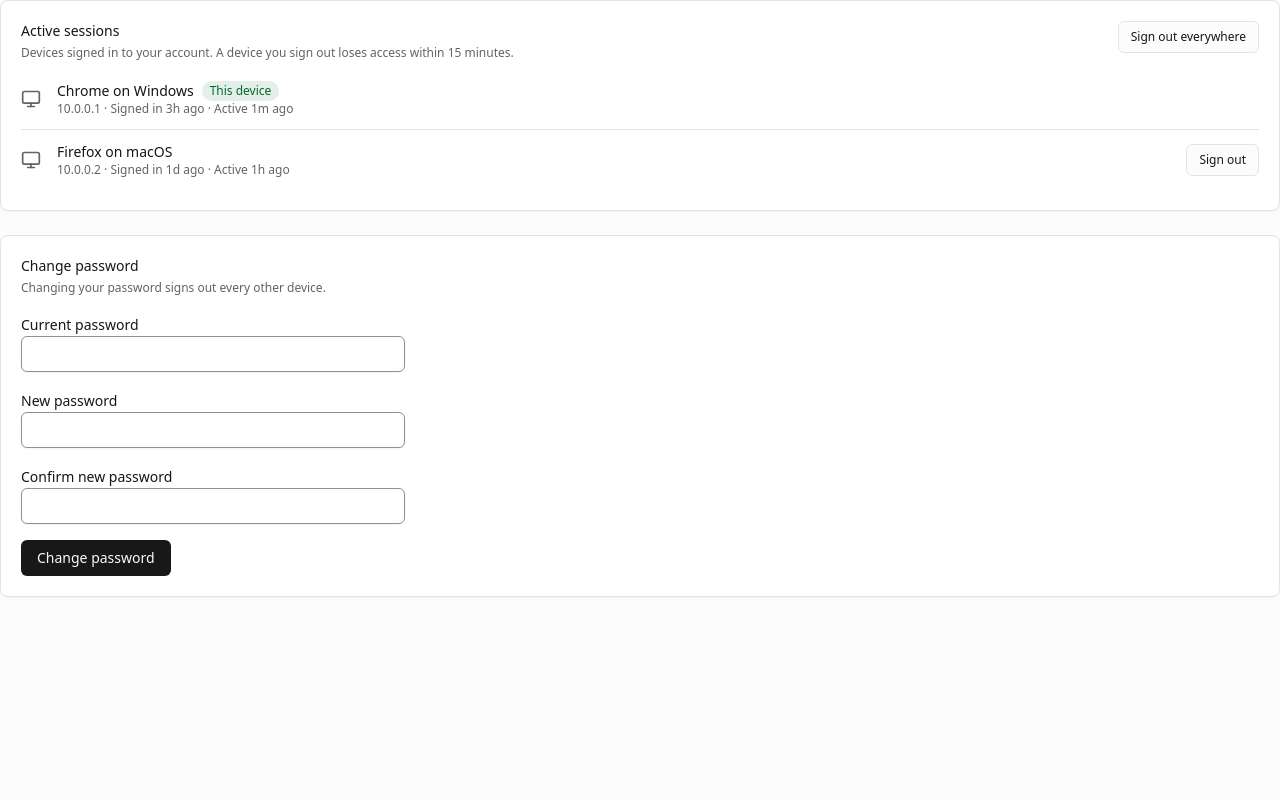
Test: changing the password › rejects reusing the current password
Type "correct-horse-battery" into the password field labelled "Current password". click: x=213, y=354
box: [21,336,405,372]
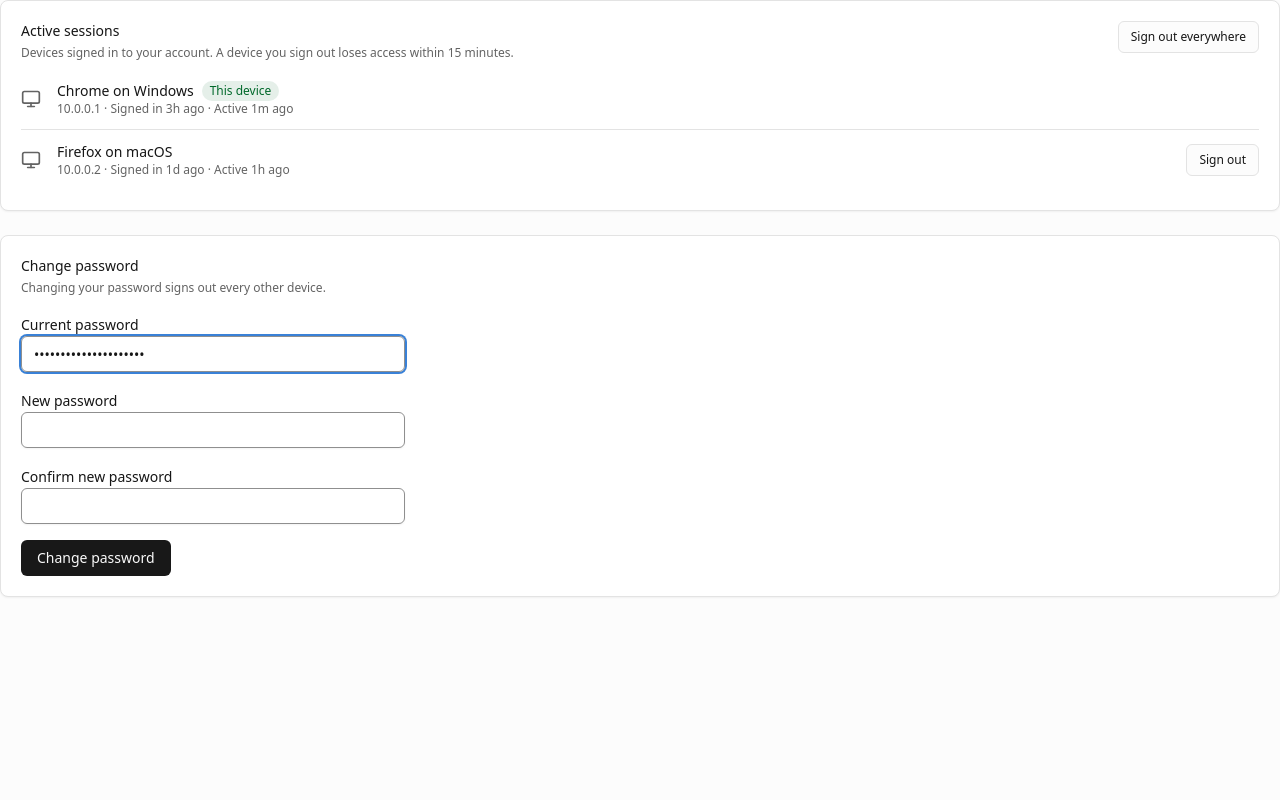
Type "correct-horse-battery" into the password field labelled "New password". click: x=213, y=430
box: [21,412,405,448]
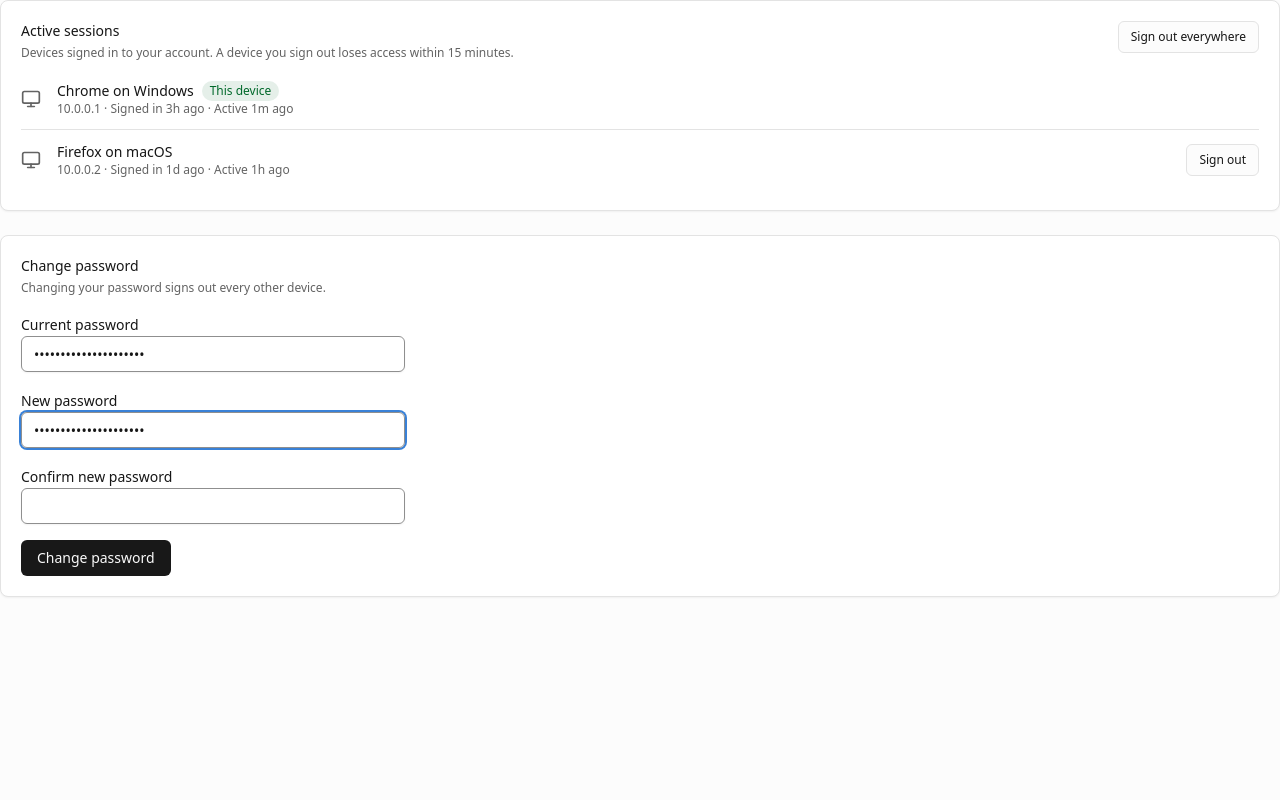
Type "correct-horse-battery" into the password field labelled "Confirm new password". click: x=213, y=506
box: [21,488,405,524]
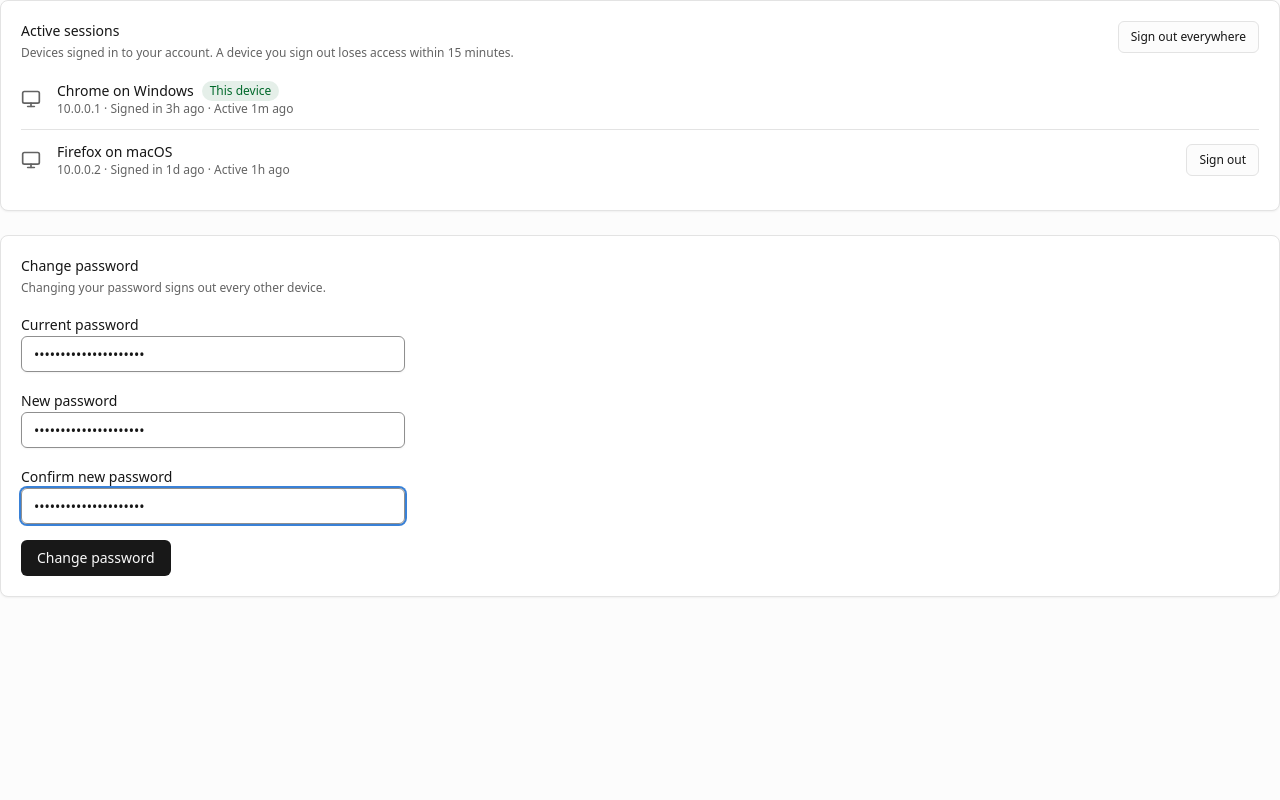
Click the button "Change password". click: x=96, y=558
box: [21,540,171,576]
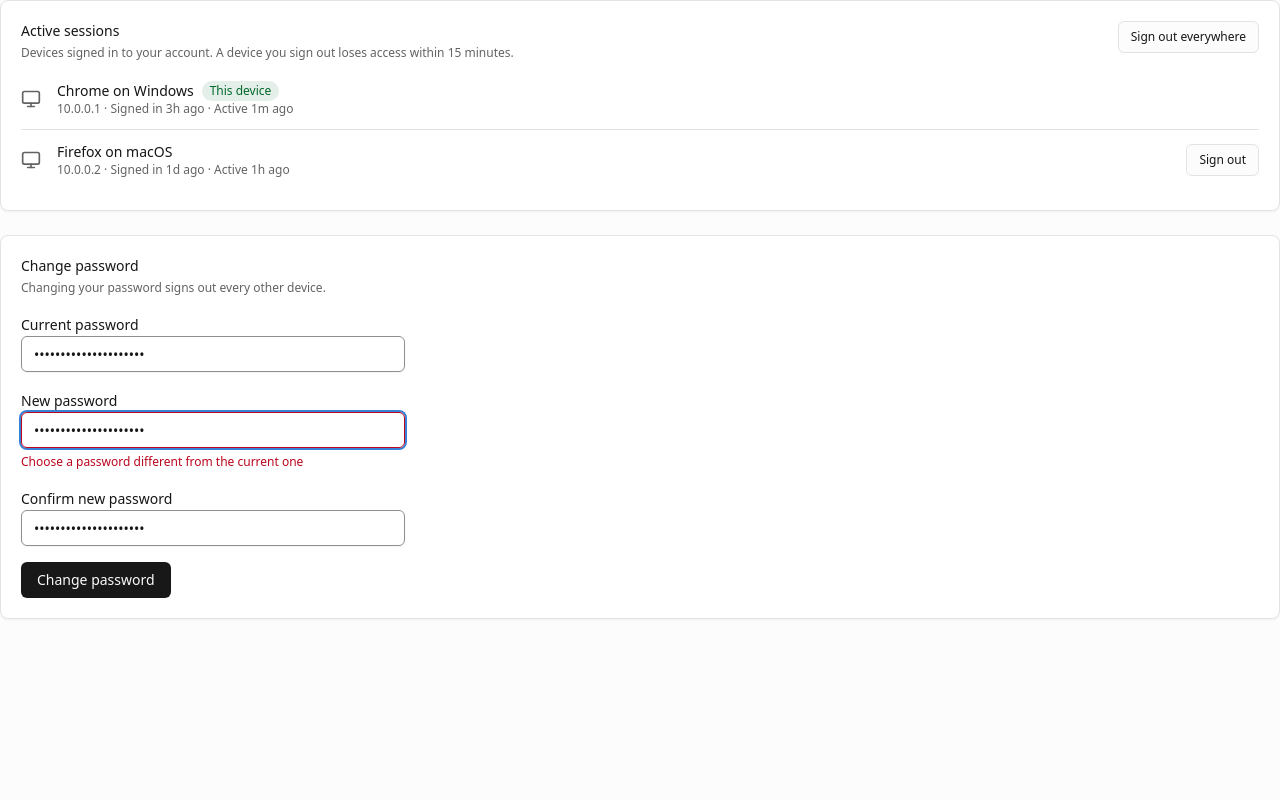
Result: the text "Choose a password different from the current one" is shown at [21,453,303,470]
